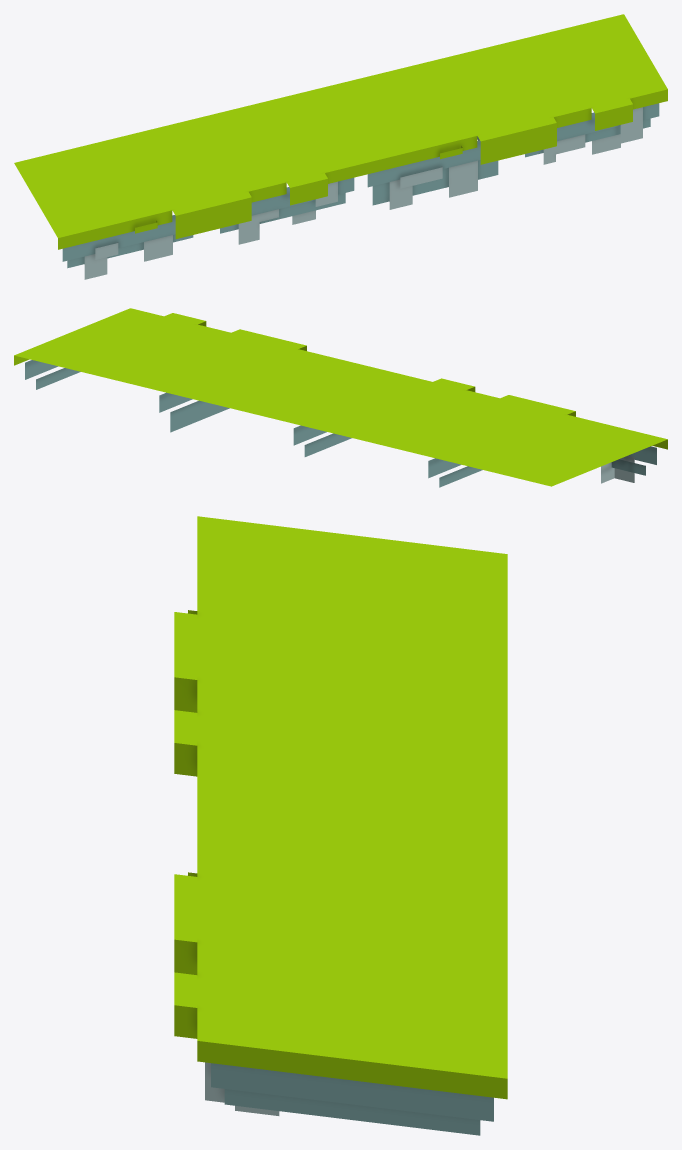
The model's file is Field_Type_01_01.FBX.
3 views of the same model, one above another, from view 1: azimuth 30°, elevation 25°; view 2: azimuth 150°, elevation 25°; view 3: azimuth 270°, elevation 25° (orthographic). The views are drawn at different scales.
Parts seen in each view (by area): view 1: Field_Type_01_01; view 2: Field_Type_01_01; view 3: Field_Type_01_01.
Part boxes in pixels (<box>): Field_Type_01_01: <box>14,14,667,279</box>; Field_Type_01_01: <box>14,308,667,487</box>; Field_Type_01_01: <box>174,516,507,1135</box>.
Size of the model in its own units: 92.6 by 8.17 by 23.21.
